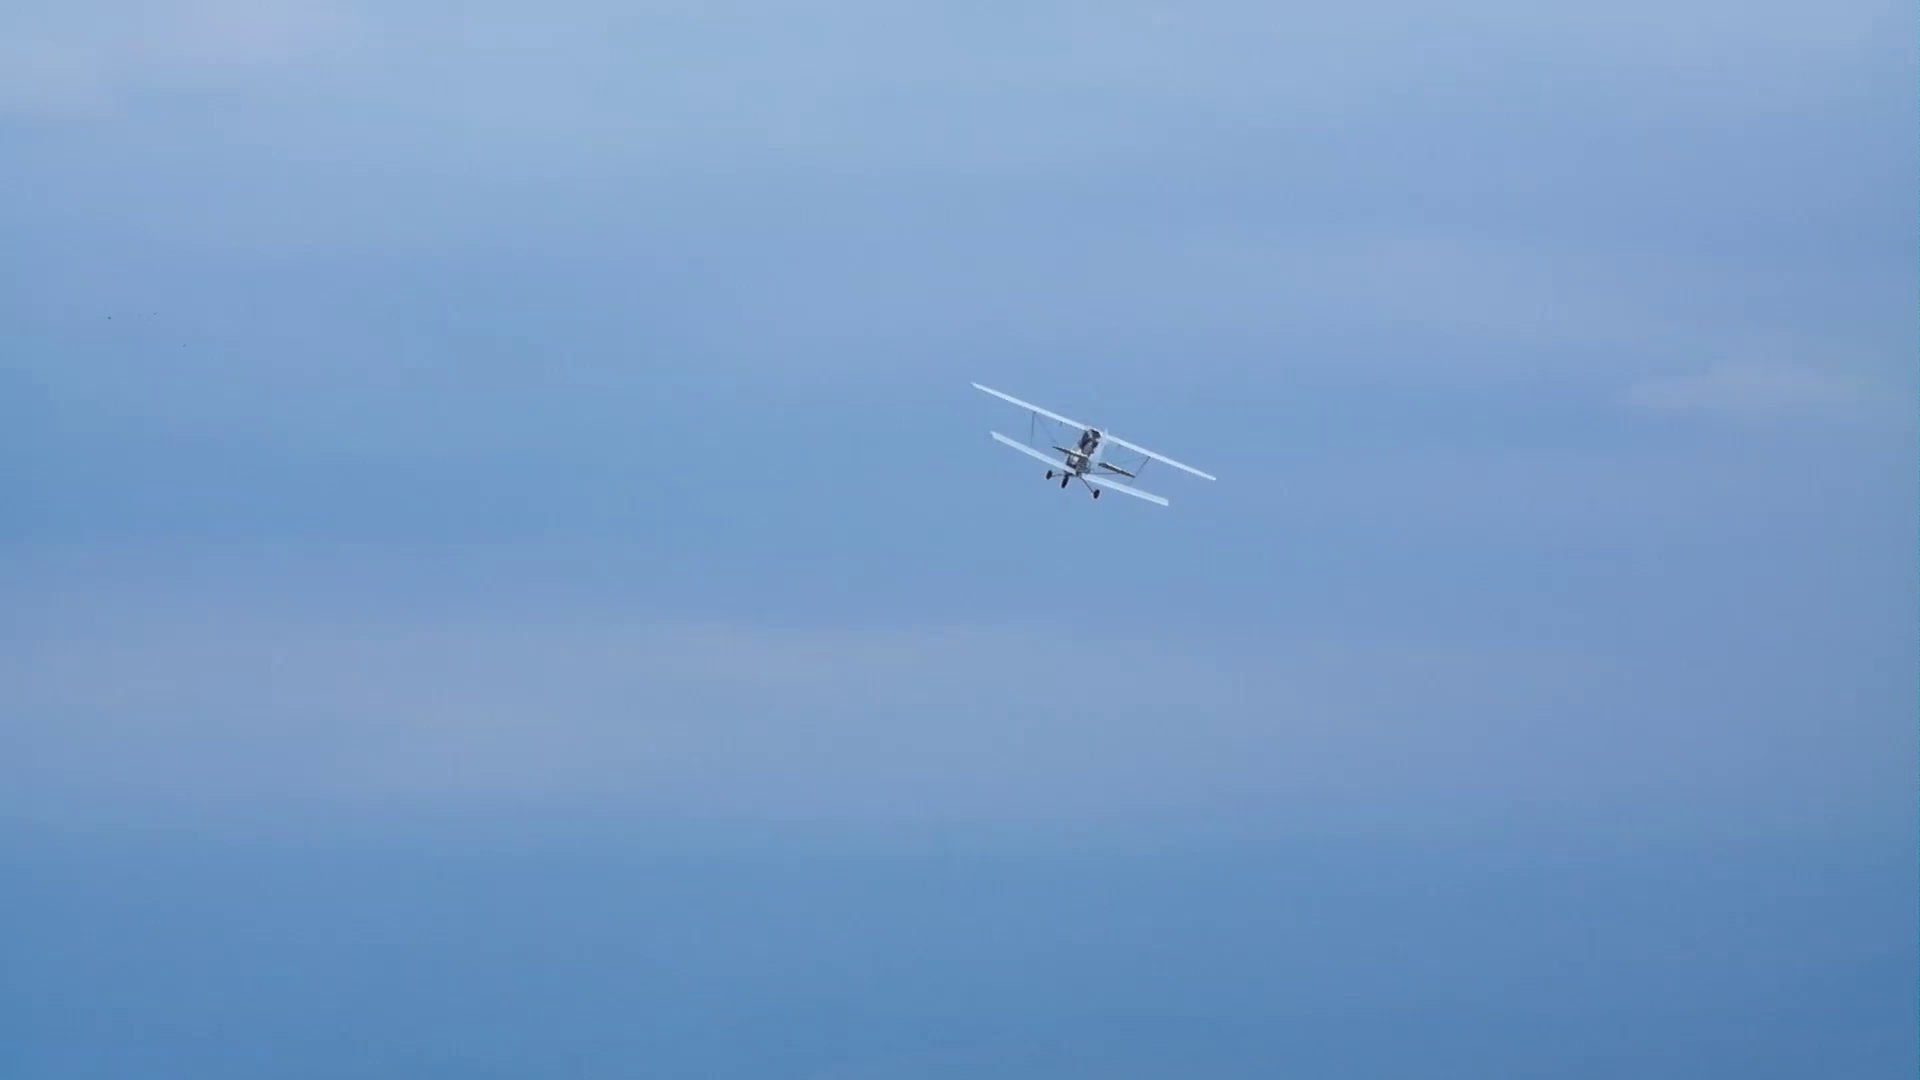plane: (972, 378, 1218, 509)
